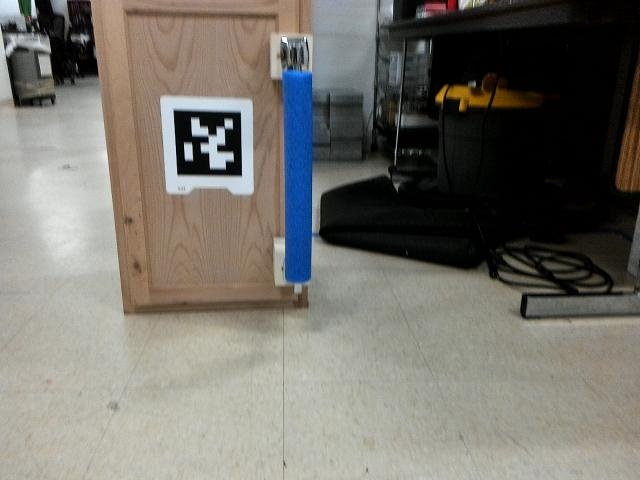noodle_handle: (276, 56, 317, 284)
